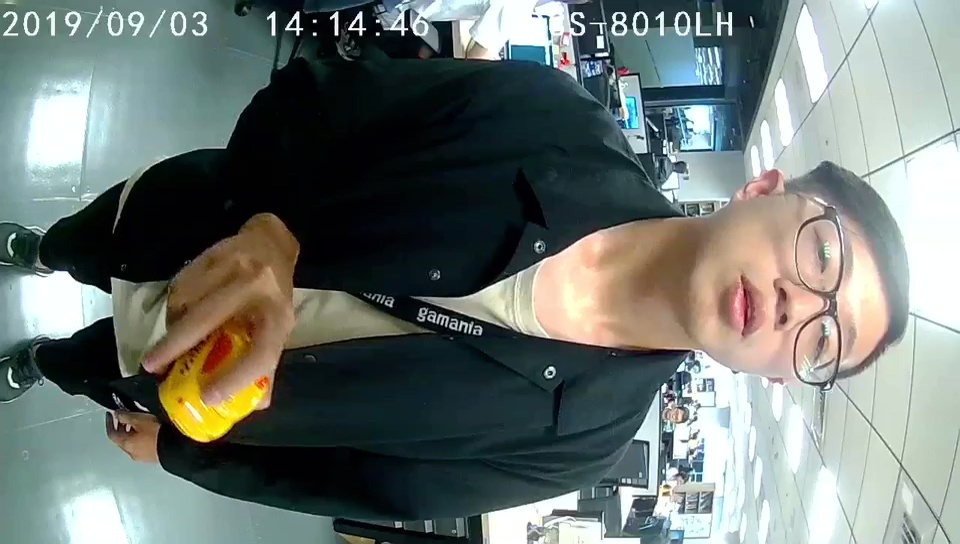car: (157, 327, 268, 440)
